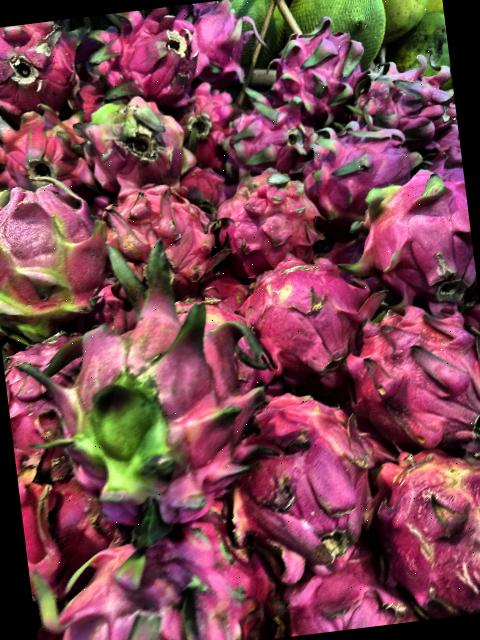buah-naga-belum-matang: (13, 253, 293, 543), (357, 434, 480, 625), (0, 163, 122, 351), (92, 162, 225, 301), (57, 85, 198, 212)
buah-naga-matang: (24, 498, 286, 640), (225, 378, 380, 576), (333, 291, 480, 481), (228, 234, 382, 403), (338, 166, 480, 314), (202, 145, 332, 295), (293, 107, 430, 227), (79, 8, 207, 118), (345, 47, 460, 154), (259, 21, 368, 127), (0, 93, 99, 207), (0, 17, 92, 118), (213, 97, 318, 182)
